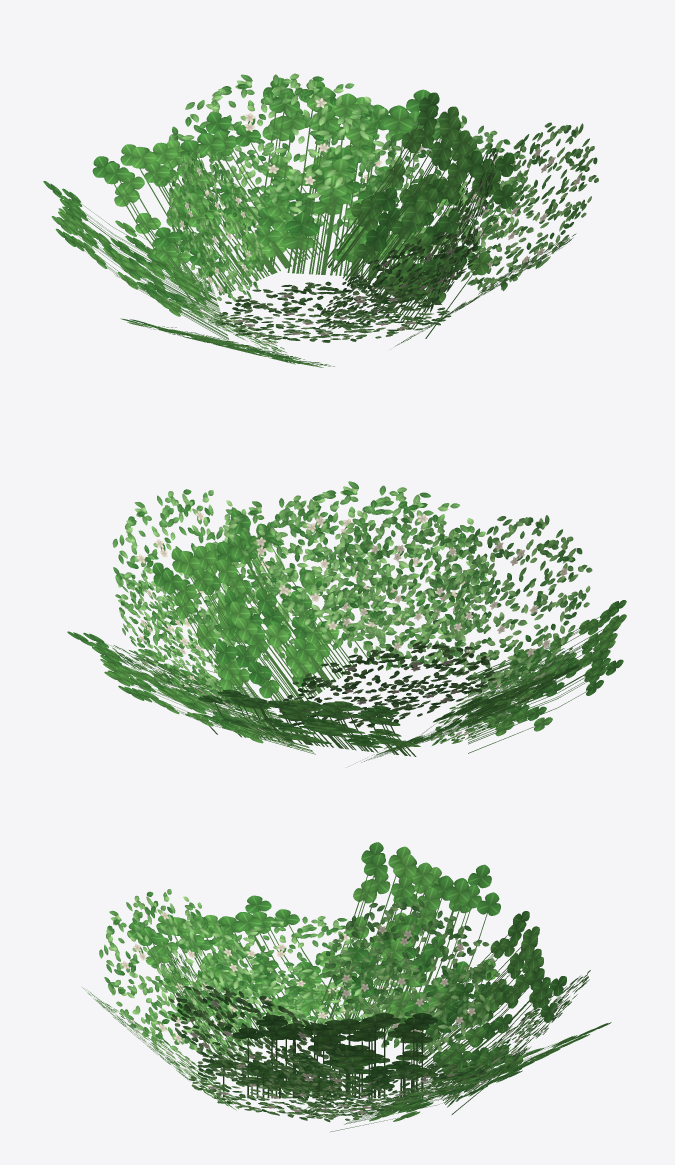
The model's file is erba_b.glb.
The picture shows the model from 3 angles, top to bottom: view 1: azimuth 30°, elevation 25°; view 2: azimuth 150°, elevation 25°; view 3: azimuth 270°, elevation 25°; orthographic projection. The views are drawn at different scales.
Parts seen in each view (by area): view 1: erba; view 2: erba; view 3: erba.
Part boxes in pixels (x1,y1,x2,y2): erba: (43,73,598,367); erba: (67,481,626,766); erba: (82,842,611,1131).
Bounding box in the file's own units: 0.6825 × 0.2164 × 0.6948.
1 material, 1 textured.
